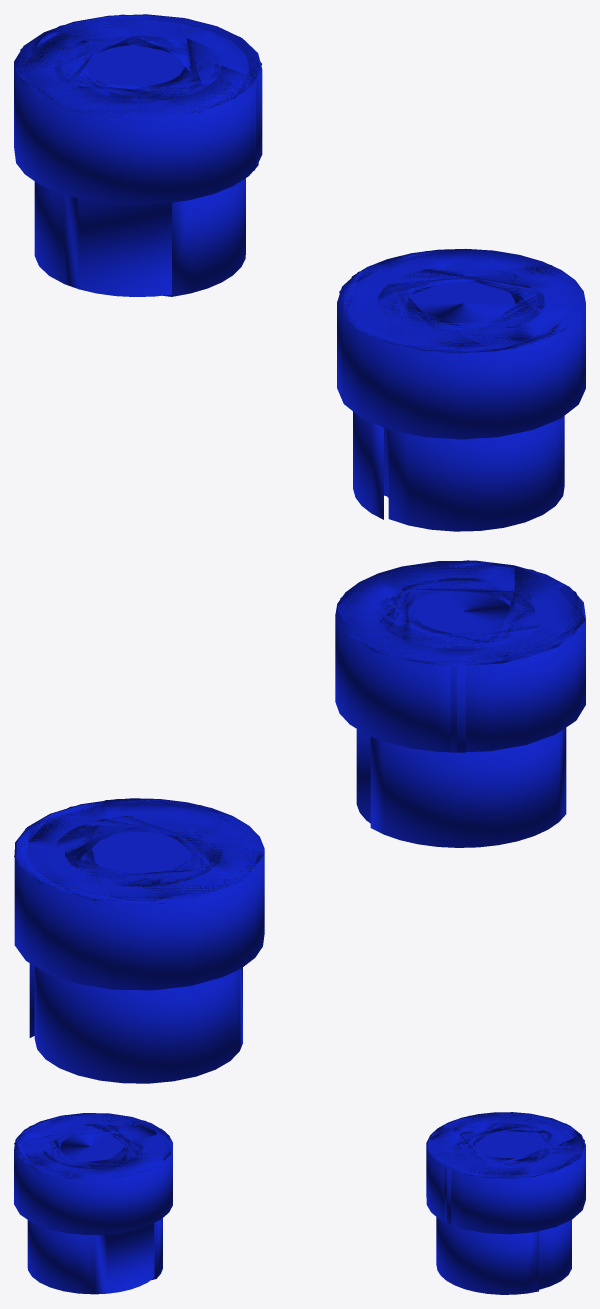
Rendered from tuyeau_element_000029.obj.
The picture shows the model from 3 angles, top to bottom: view 1: azimuth 30°, elevation 25°; view 2: azimuth 150°, elevation 25°; view 3: azimuth 270°, elevation 25°; orthographic projection. The views are drawn at different scales.
Parts seen in each view (by area): view 1: tuyeau1_Cube.014, tuyeau2_Cube.017; view 2: tuyeau2_Cube.017, tuyeau1_Cube.014; view 3: tuyeau1_Cube.014, tuyeau2_Cube.017.
Part boxes in pixels (x1,y1,x2,y2): tuyeau1_Cube.014: (14, 14, 262, 296); tuyeau2_Cube.017: (337, 249, 585, 531); tuyeau2_Cube.017: (335, 560, 585, 847); tuyeau1_Cube.014: (14, 798, 264, 1083); tuyeau1_Cube.014: (426, 1112, 585, 1294); tuyeau2_Cube.017: (14, 1113, 172, 1294).
Bounding box in the file's own units: 3553 × 2917 × 12625.
